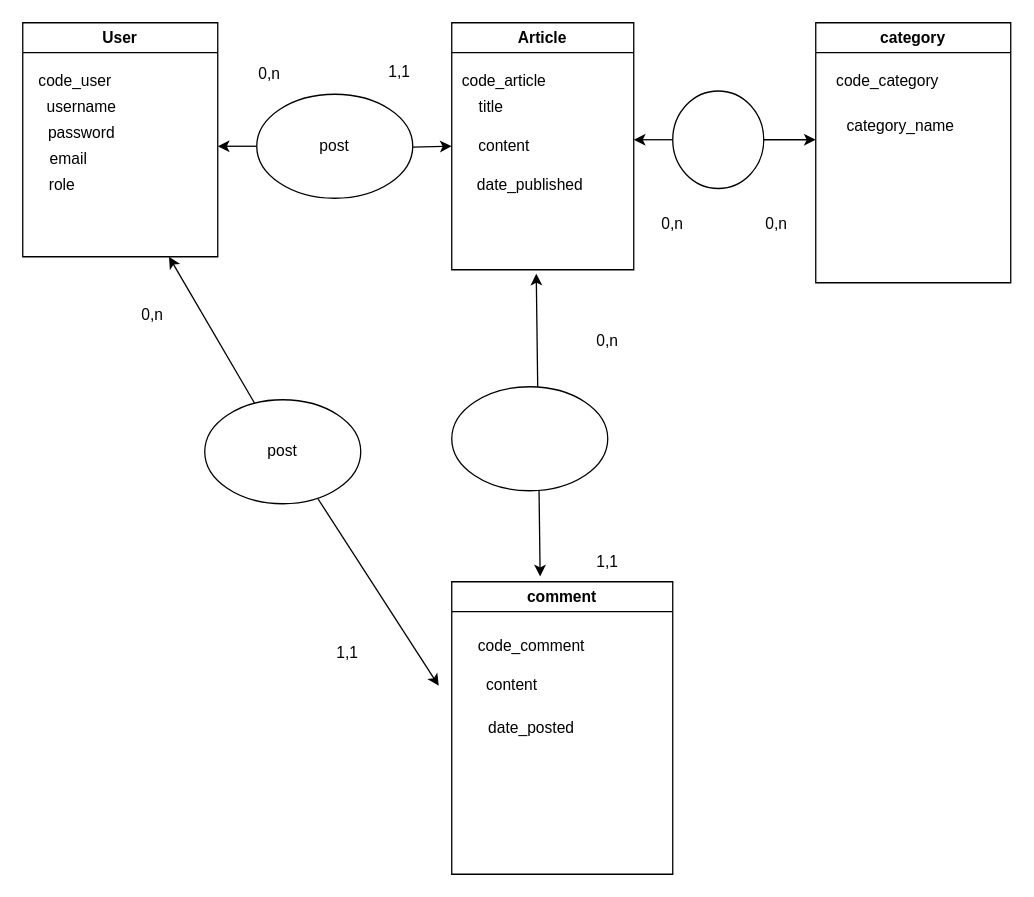
The diagram is 1034 pixels wide and 897 high, and some of its shapes have lost their labels. The shapes that lost their labels are listed below. From the top down, each one's box as (x1, y1, x2, y2) in pixels, then its label:
(671, 90, 764, 188): has
(450, 385, 608, 491): possede
